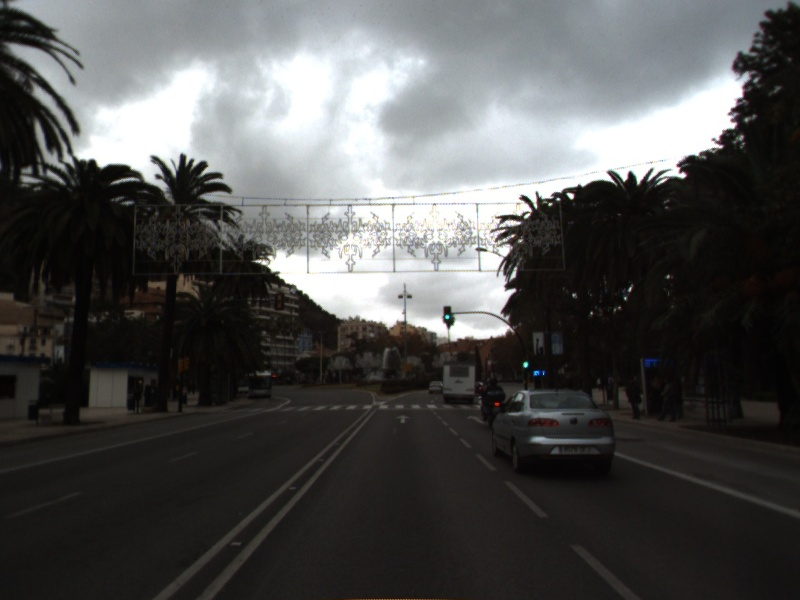STRAIGHT: (464, 413, 487, 425), (393, 412, 414, 425)
